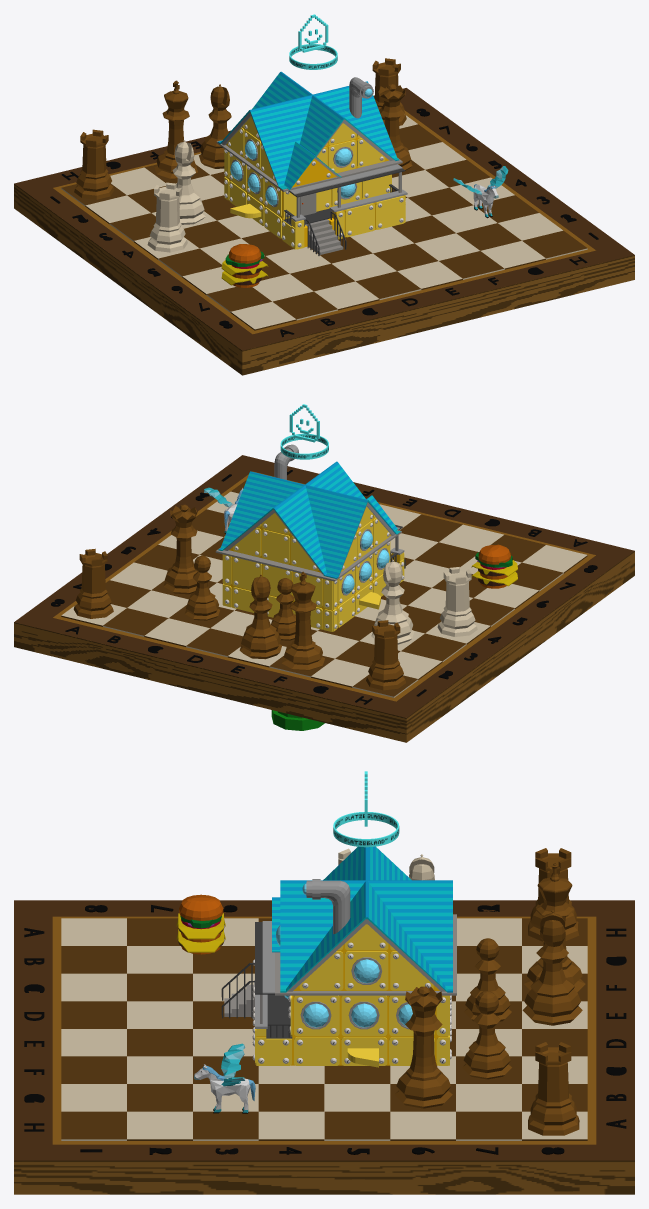
3 renders of one model, top to bottom at view 1: azimuth 30°, elevation 25°; view 2: azimuth 150°, elevation 25°; view 3: azimuth 270°, elevation 25°, orthographic. The views are drawn at different scales.
Visible parts, largest first — view 1: Cube.002, Cube.1366, OBJRANDOM_HAMBURGER, TYPE_PREMIUM, ANIMAL_PEGASO; view 2: Cube.002, Cube.1366, OBJRANDOM_HAMBURGER, TYPE_PREMIUM, UNDERGROUND_PIPES; view 3: Cube.002, Cube.1366, OBJRANDOM_HAMBURGER, ANIMAL_PEGASO, TYPE_PREMIUM.
Part boxes in pixels (<box>): Cube.002: <box>14,58,634,375</box>; Cube.1366: <box>216,71,407,255</box>; OBJRANDOM_HAMBURGER: <box>221,244,268,287</box>; TYPE_PREMIUM: <box>289,14,337,69</box>; ANIMAL_PEGASO: <box>453,166,508,218</box>; Cube.002: <box>14,455,634,742</box>; Cube.1366: <box>215,444,405,631</box>; OBJRANDOM_HAMBURGER: <box>471,544,517,588</box>; TYPE_PREMIUM: <box>280,404,328,459</box>; UNDERGROUND_PIPES: <box>271,710,324,730</box>; Cube.002: <box>14,848,634,1194</box>; Cube.1366: <box>221,846,456,1067</box>; OBJRANDOM_HAMBURGER: <box>176,894,225,954</box>; ANIMAL_PEGASO: <box>194,1043,255,1113</box>; TYPE_PREMIUM: <box>333,771,399,847</box>.
Size of the model in its own units: 3981 by 2761 by 4012.
32 materials, 3 textured.
